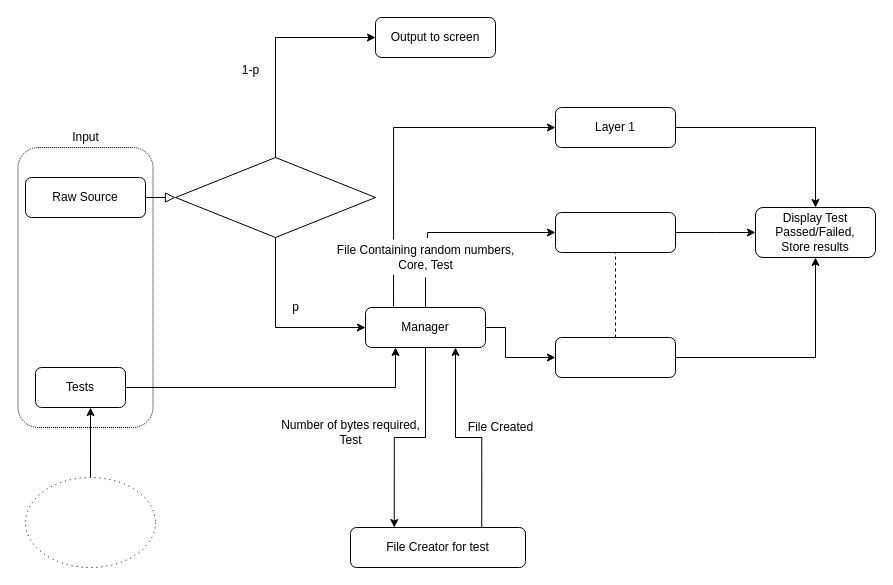
This 893x585 diagram has some shape labels left out. The centre of each missing label's shape, as x and y in pixels:
"Divide data into p and (1-p) proportions." goes at pixel 275 197.
"Layer 2" goes at pixel 615 232.
"Layer n" goes at pixel 615 357.
"Test suite, test, id, size, time" goes at pixel 90 522.
